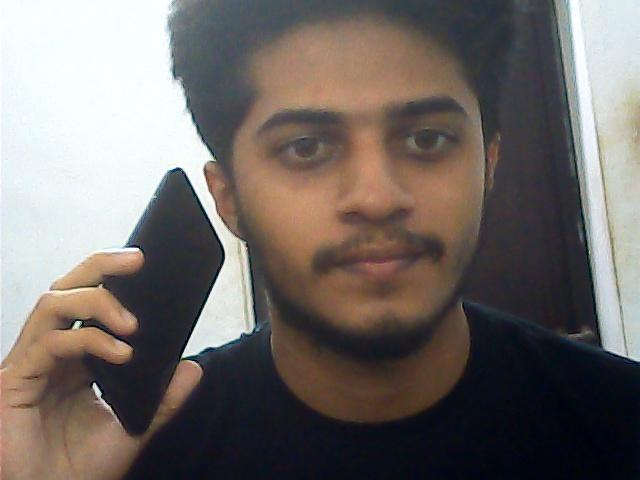PhoneUse: (80, 161, 224, 433)
SafeDriving: (384, 107, 470, 168), (263, 117, 354, 172)
